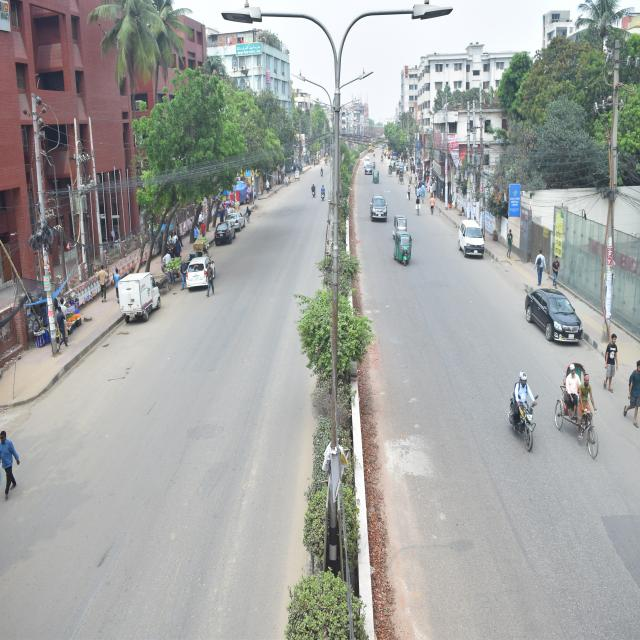car: (523, 279, 588, 348), (183, 253, 218, 293), (369, 192, 389, 225), (212, 220, 236, 246), (226, 209, 248, 236)
microbus: (459, 214, 489, 264)
motorbike: (506, 378, 540, 454), (319, 182, 329, 205), (310, 182, 318, 200)
pickup-van: (114, 270, 165, 327)
